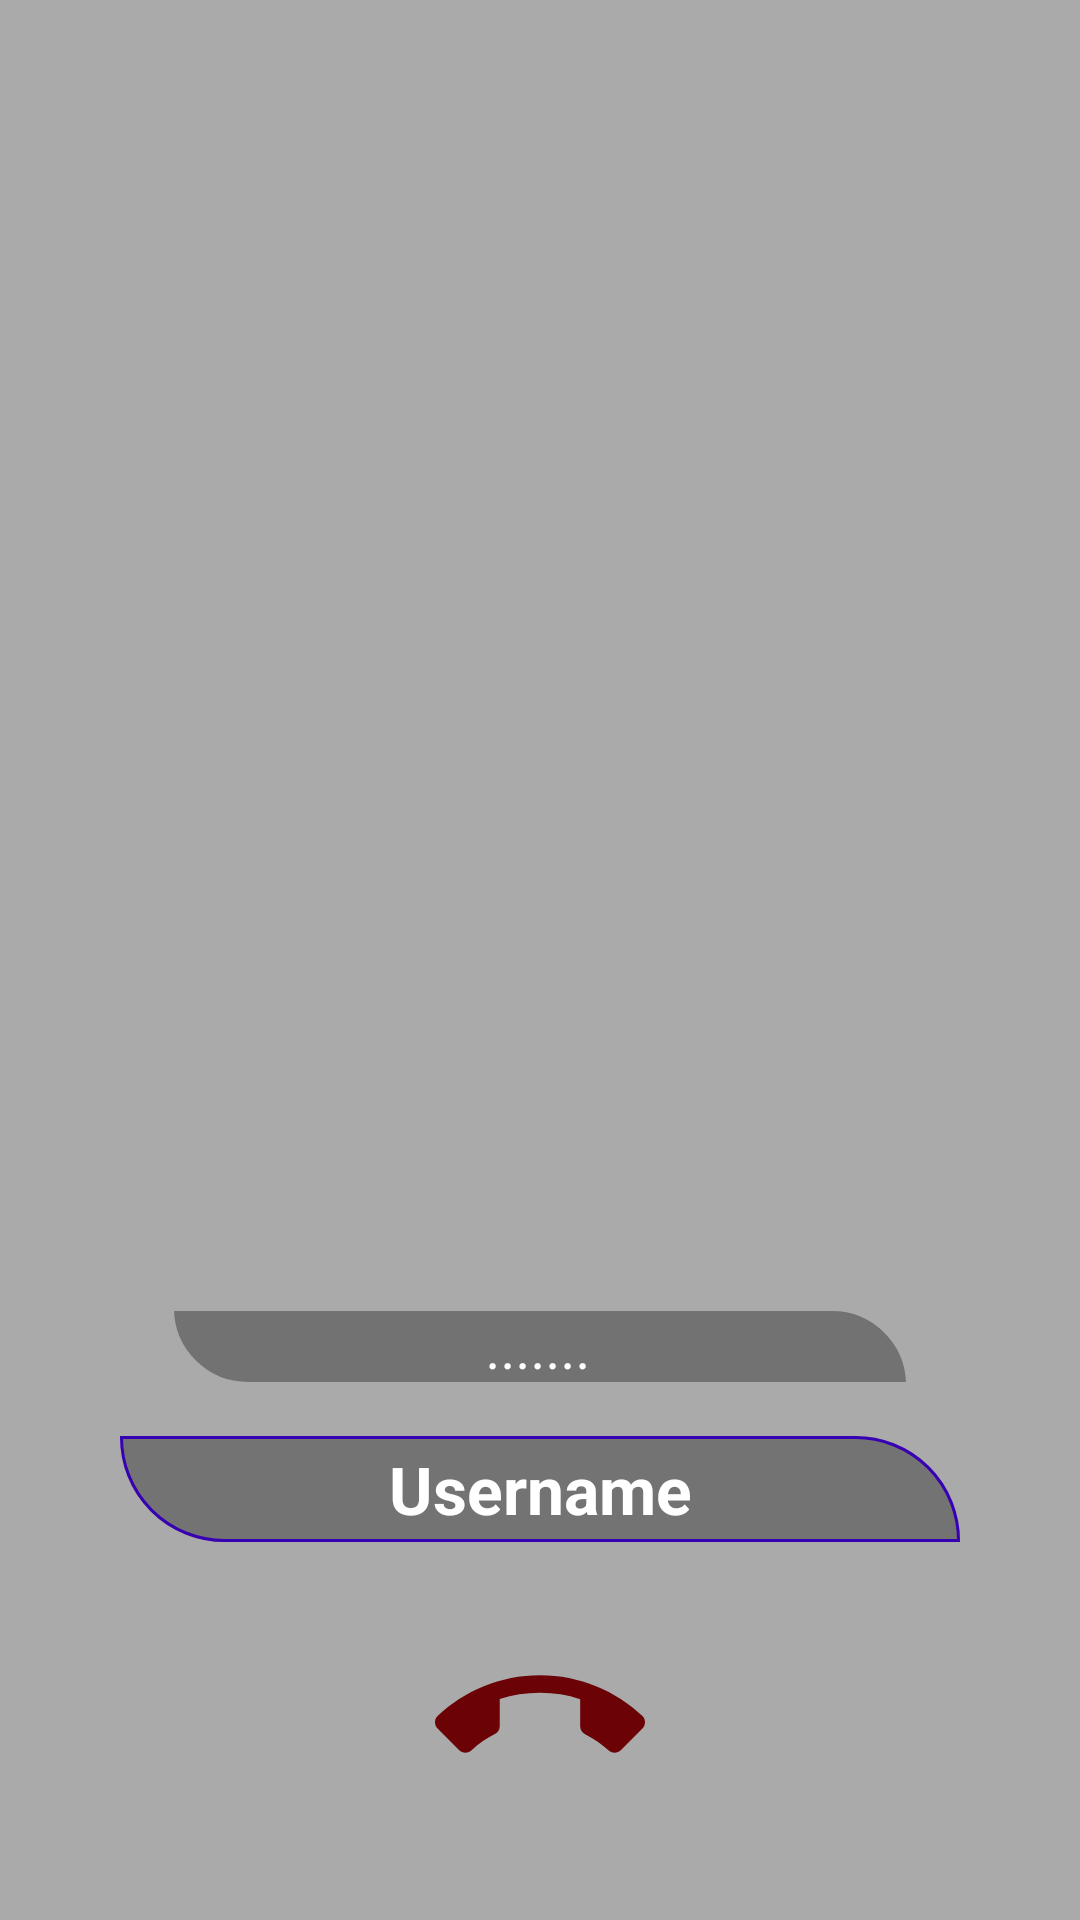

Screen size 1080w x 1920h. Icon name, then its center in pixels as [x,y]:
calling back: [540,1714]
